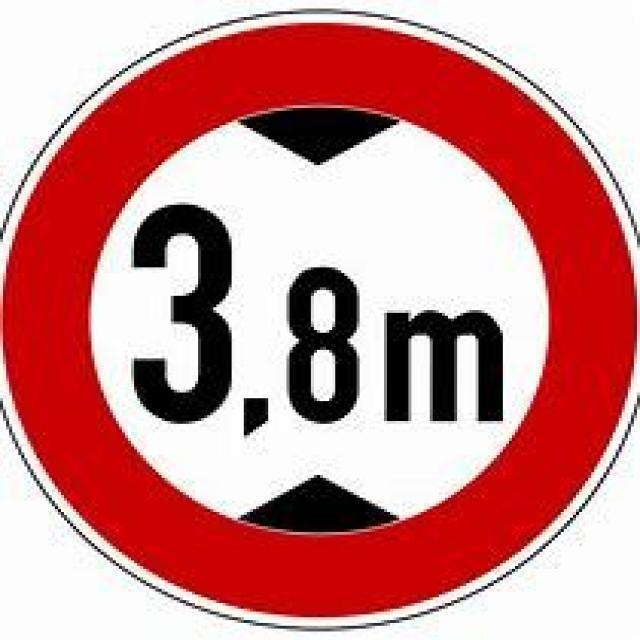height_limit: (3, 8, 637, 623)
